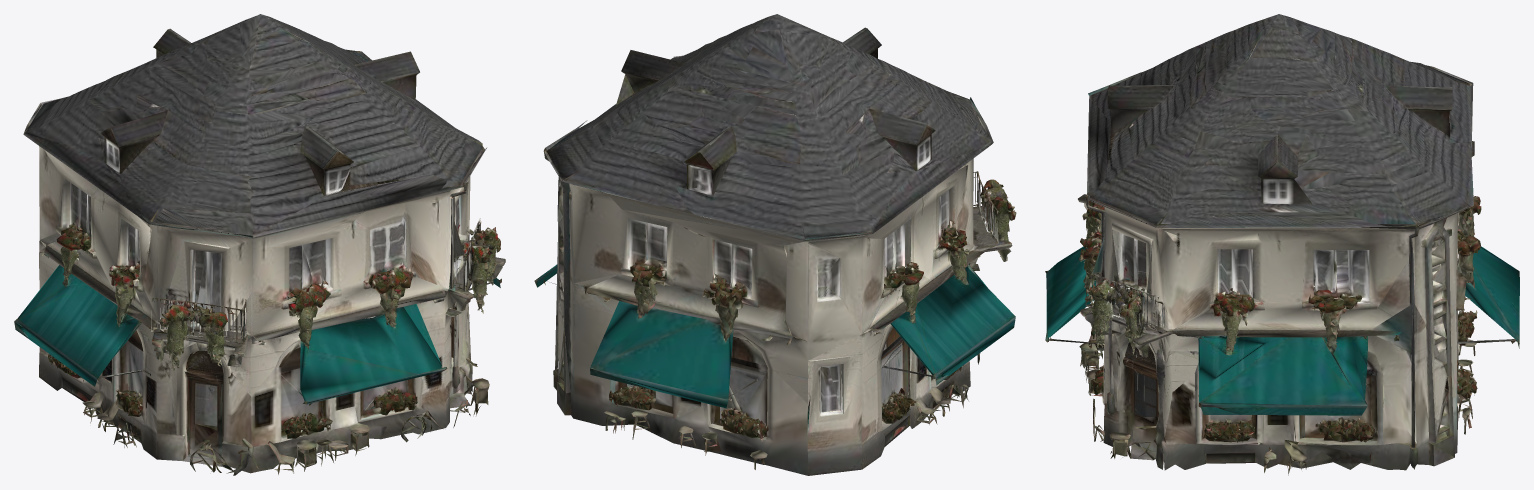
Rendered from cafe-corner.glb.
3 renders of one model, left to right at view 1: azimuth 30°, elevation 25°; view 2: azimuth 150°, elevation 25°; view 3: azimuth 270°, elevation 25°, orthographic. The views are drawn at different scales.
Parts seen in each view (by area): view 1: Cafe; view 2: Cafe; view 3: Cafe.
Part boxes in pixels (x1=…): Cafe: x1=14, y1=14, x2=505, y2=475; Cafe: x1=534, y1=14, x2=1016, y2=475; Cafe: x1=1045, y1=14, x2=1519, y2=475.
Size of the model in its own units: 15.88 by 14 by 15.84.
Materials: 1 (1 with a texture image).
